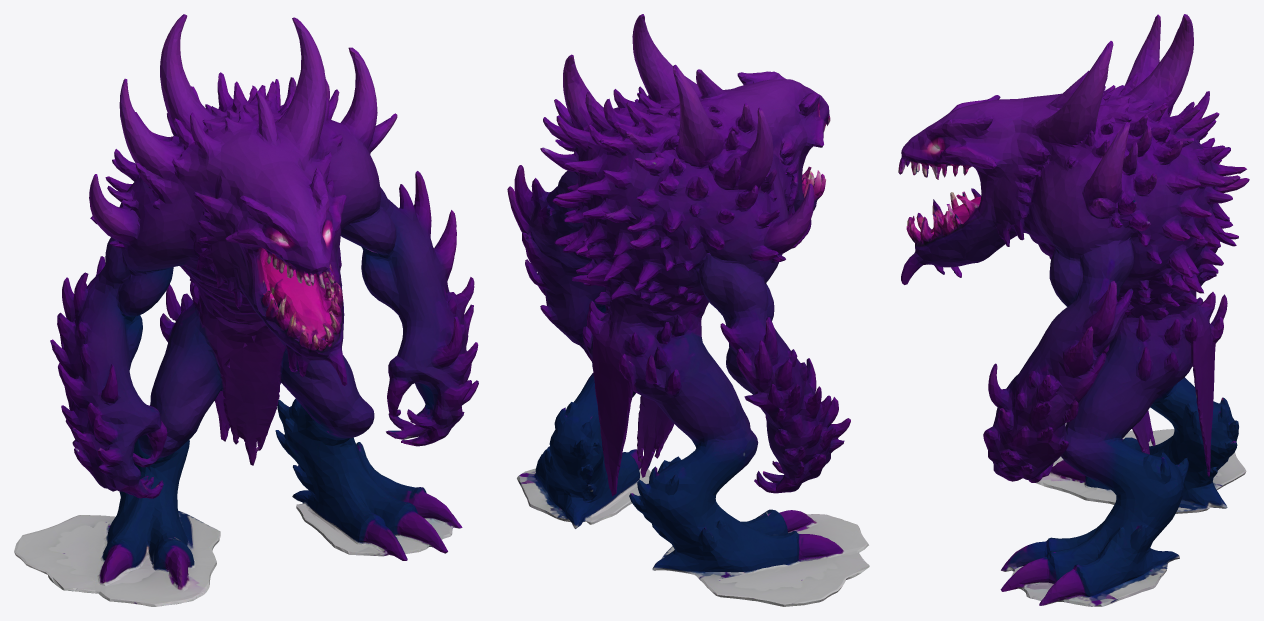
3 views of the same model, side by side, from view 1: azimuth 30°, elevation 25°; view 2: azimuth 150°, elevation 25°; view 3: azimuth 270°, elevation 25° (orthographic). The views are drawn at different scales.
Visible parts, largest first — view 1: textured_mesh.obj; view 2: textured_mesh.obj; view 3: textured_mesh.obj.
Part boxes in pixels (left/top/right/bottom): textured_mesh.obj: left=14, top=14, right=478, bottom=606; textured_mesh.obj: left=507, top=14, right=869, bottom=606; textured_mesh.obj: left=898, top=14, right=1249, bottom=606.
Bounding box in the file's own units: 1.54 × 1.98 × 1.24.
1 material, 1 textured.
